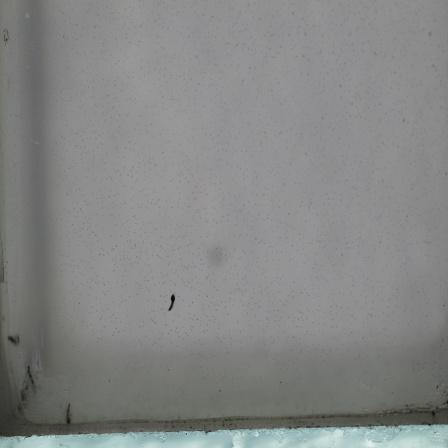Jentik-Nyamuk: (60, 399, 75, 427), (162, 292, 178, 317)
